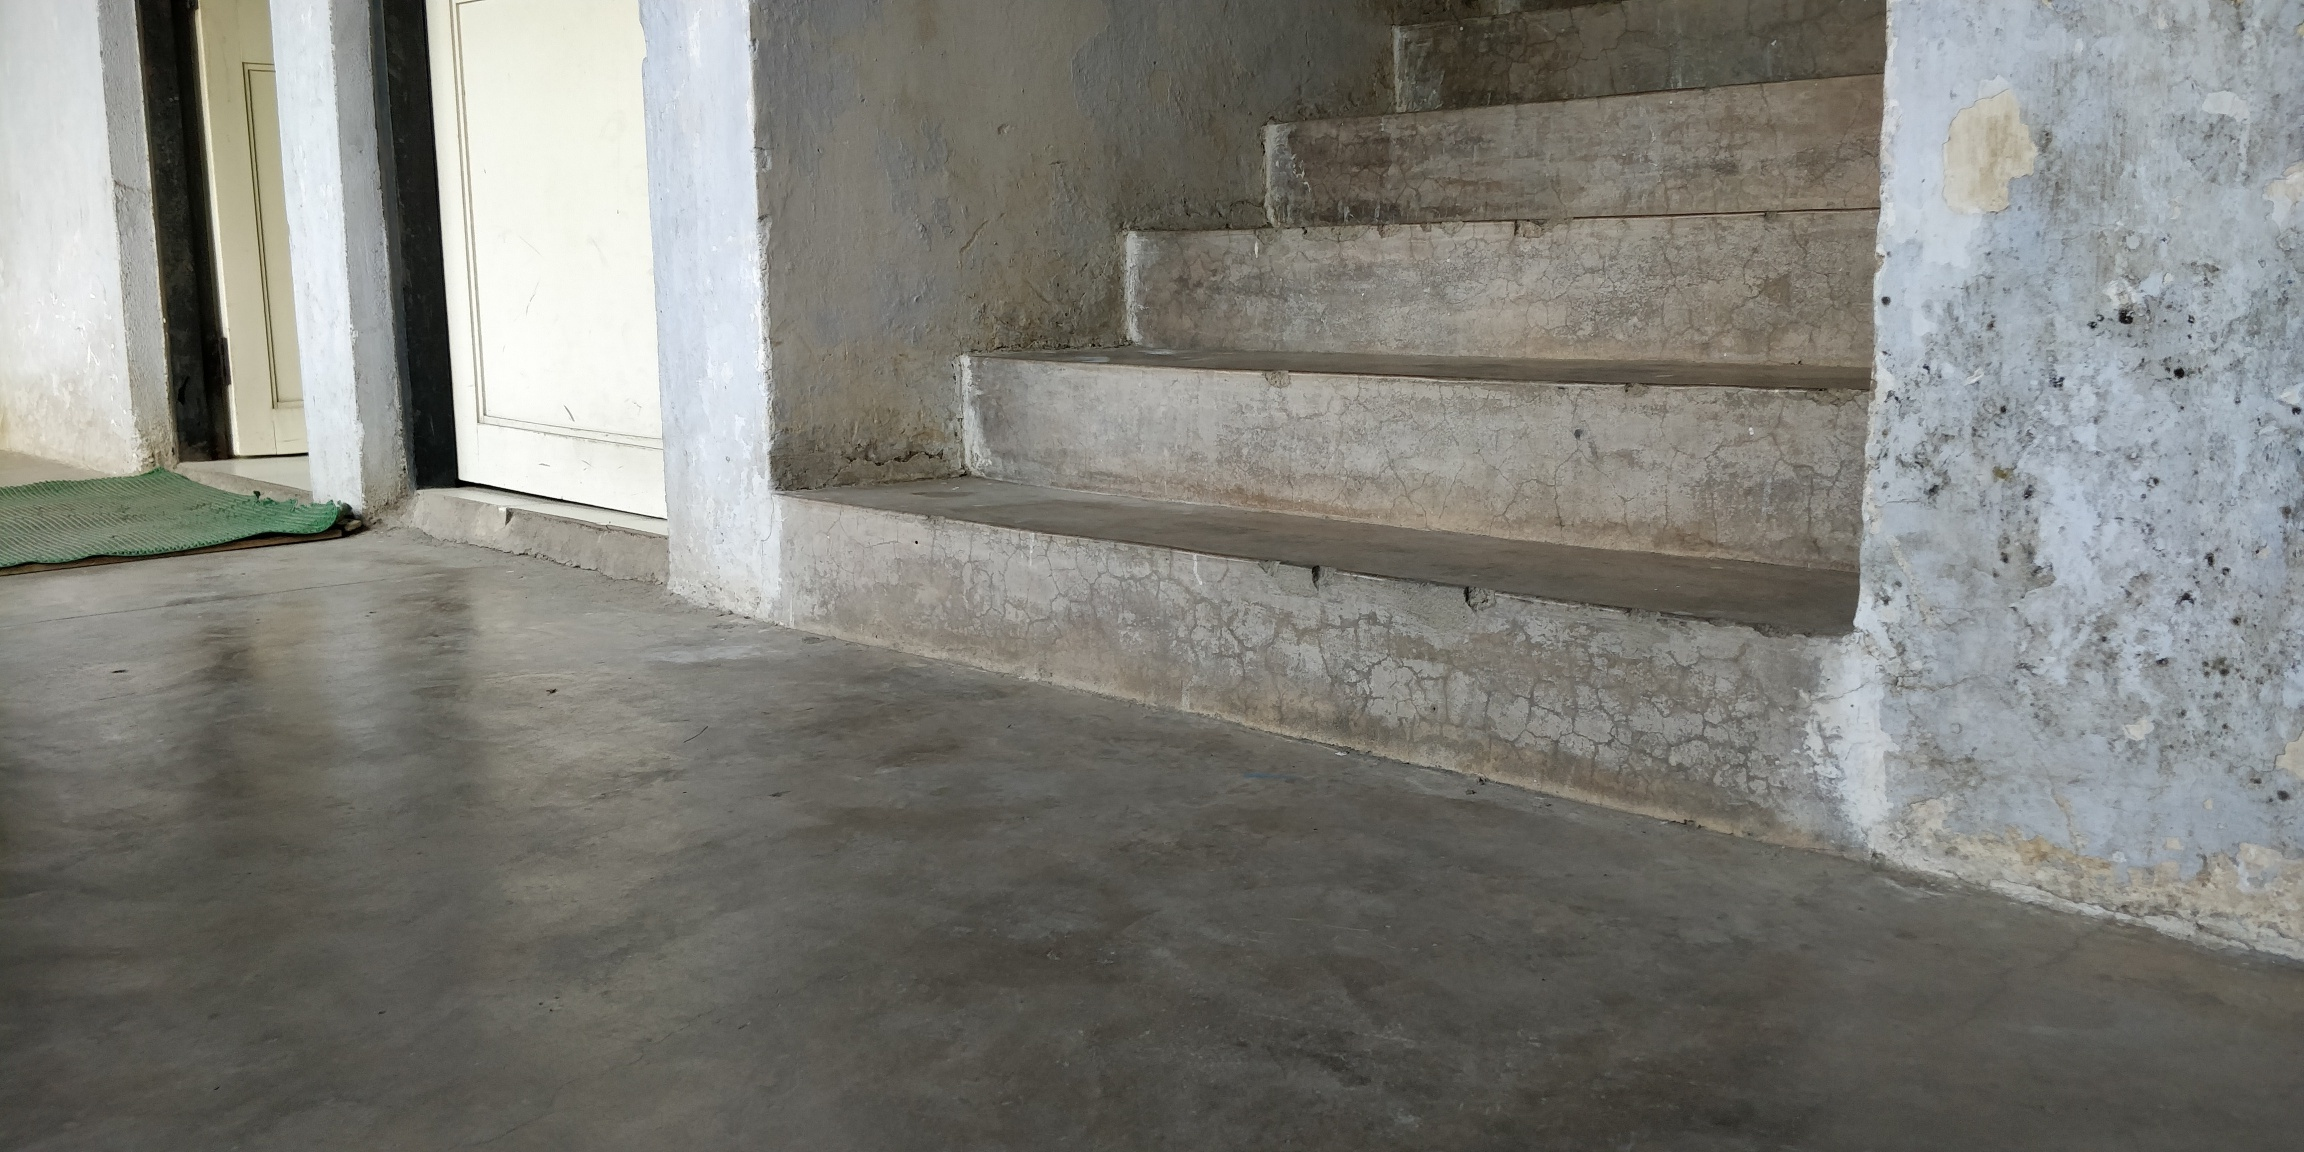stairs_up: (780, 1, 1872, 852)
